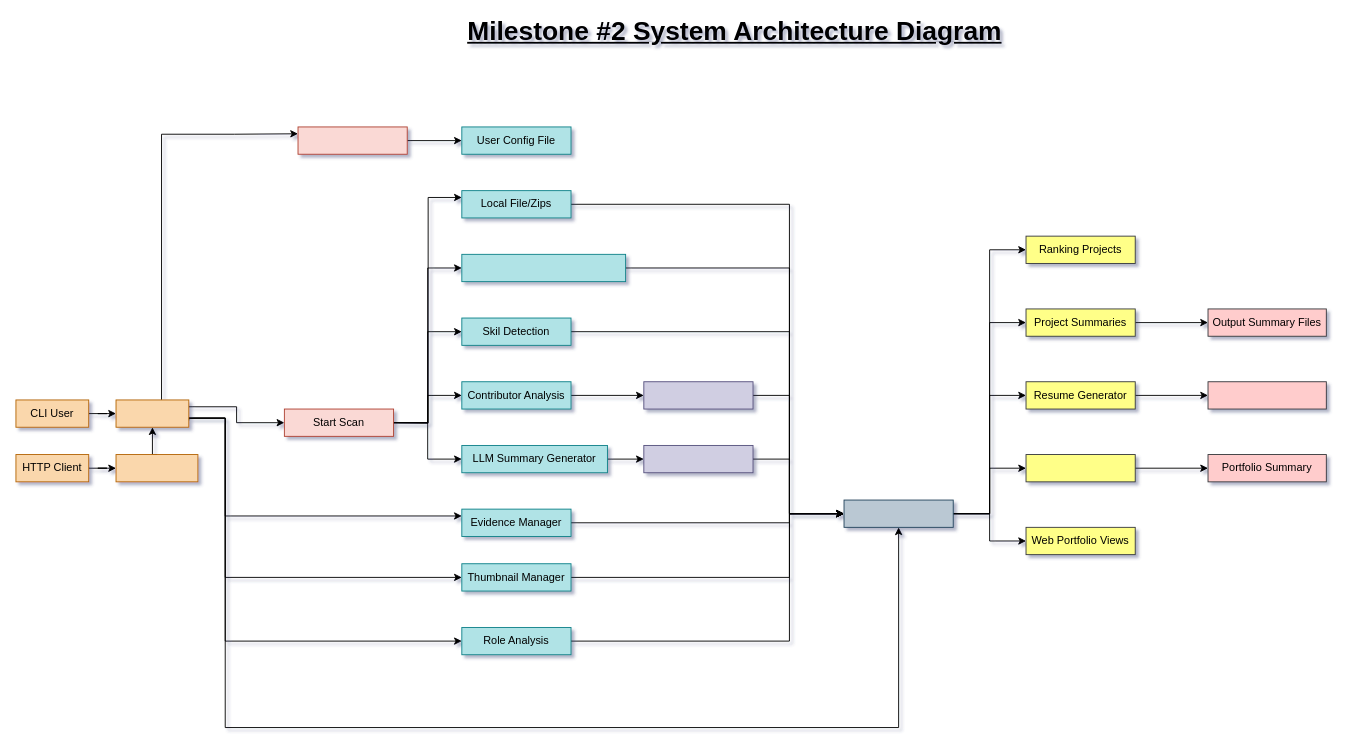
Image size: 1348x756. Some labels were removed from this diagram. Here are the shapes that lost their labels. From the top down, the centre of each, then its label:
At [352,140]: "Consent & Config".
At [543,267]: "Lang/Framework Detection".
At [152,413]: "CLI Menu".
At [698,395]: "Git CLI".
At [1266,395]: "Resume Markdown FIle".
At [156,468]: "FastAPI Server".
At [698,459]: "Ollama LLM".
At [1080,468]: "Portfolio Generator".
At [898,513]: "SQLite DB".
